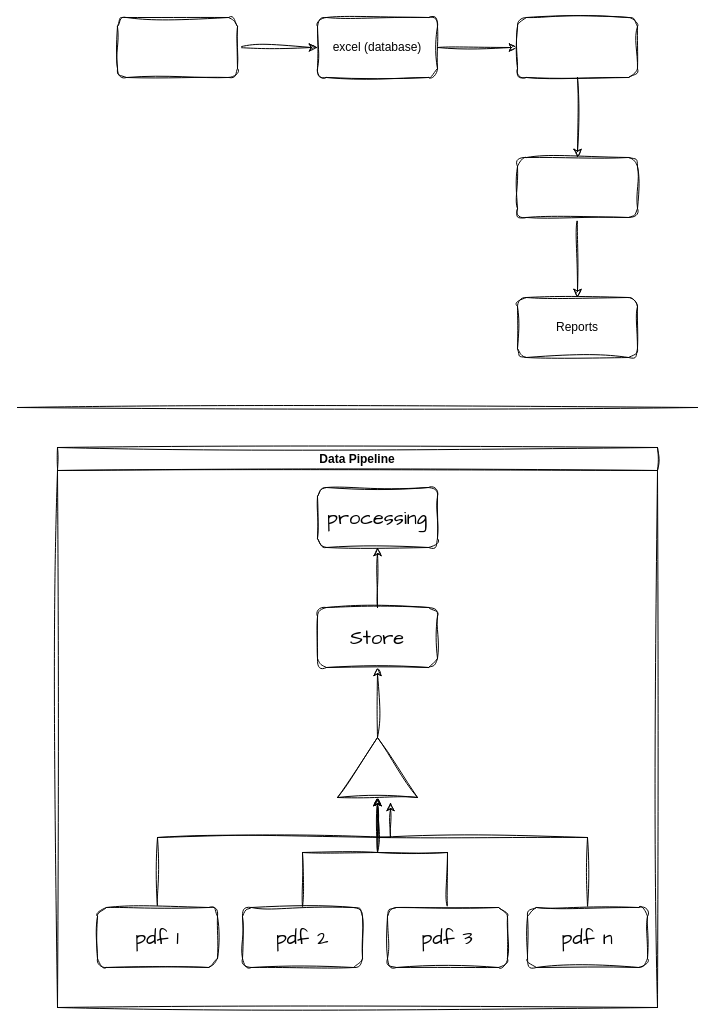
This 716x1025 diagram has some shape labels left out. Here are the shapes that lost their labels. From the top down, the centre of each, then its label:
At point 177,47: "pdf-files".
At point 577,47: "Processing/Scanning Algo".
At point 577,187: "Tagging".
At point 377,767: "Refinement".
